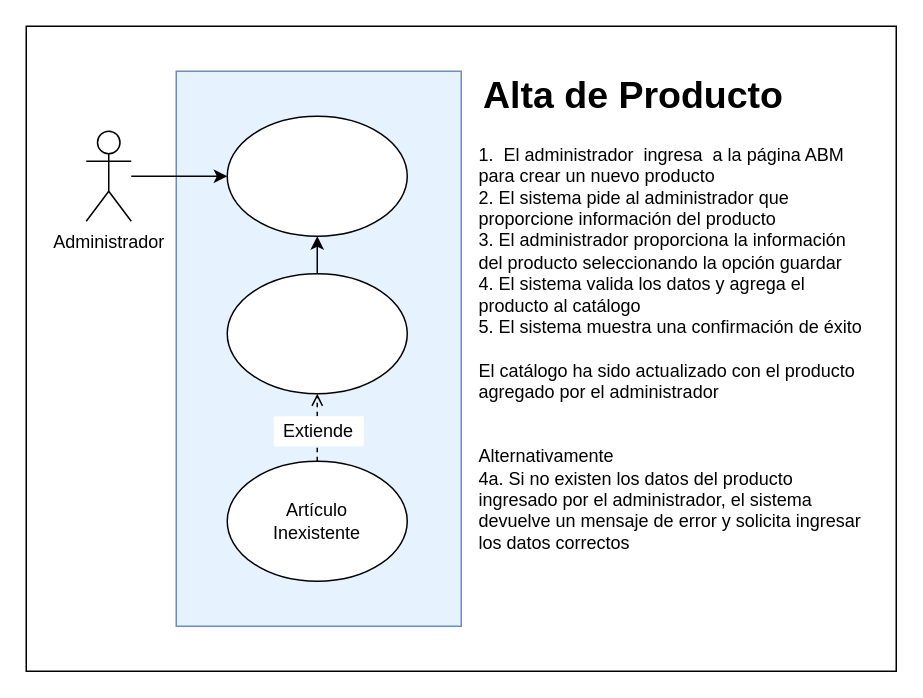
This 923x698 diagram has some shape labels left out. Each missing label, with the centre of its shape:
"Actualizar Artículo" goes at (x=316, y=175).
"Crear" goes at (x=316, y=333).
